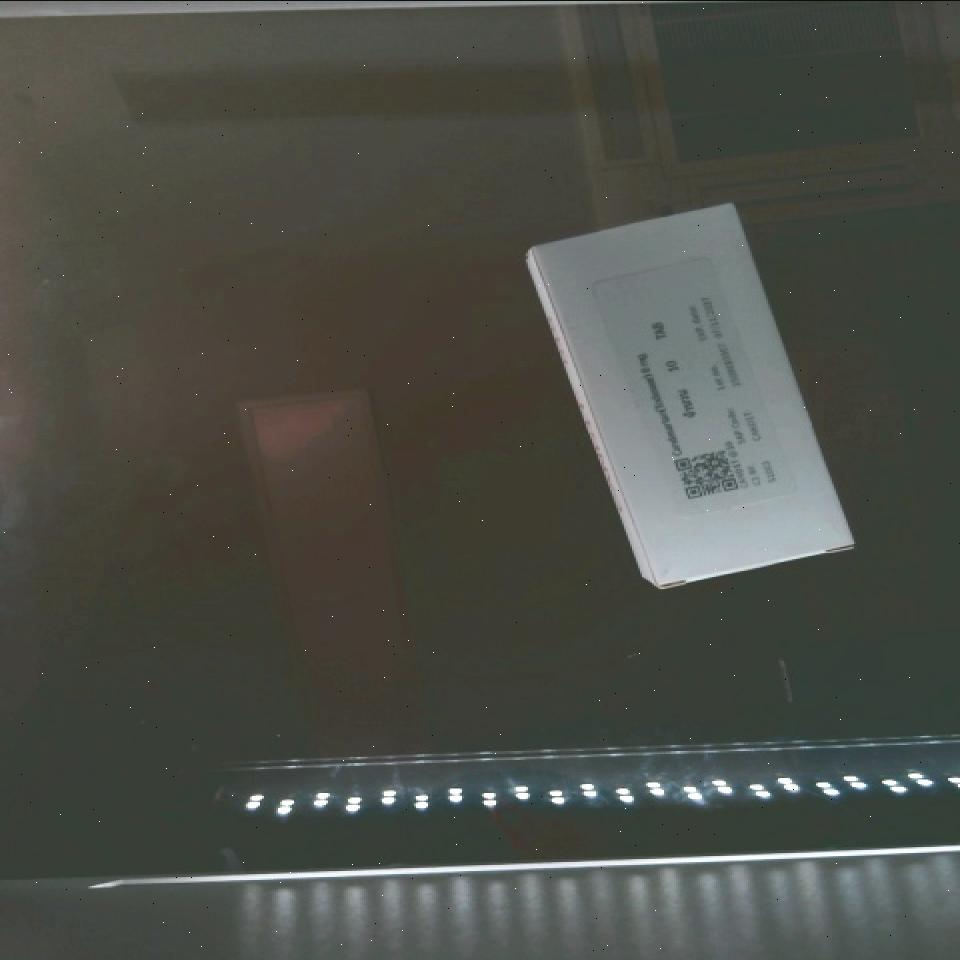medicine_box: (527, 175, 860, 620)
qr_code: (652, 429, 763, 518)
